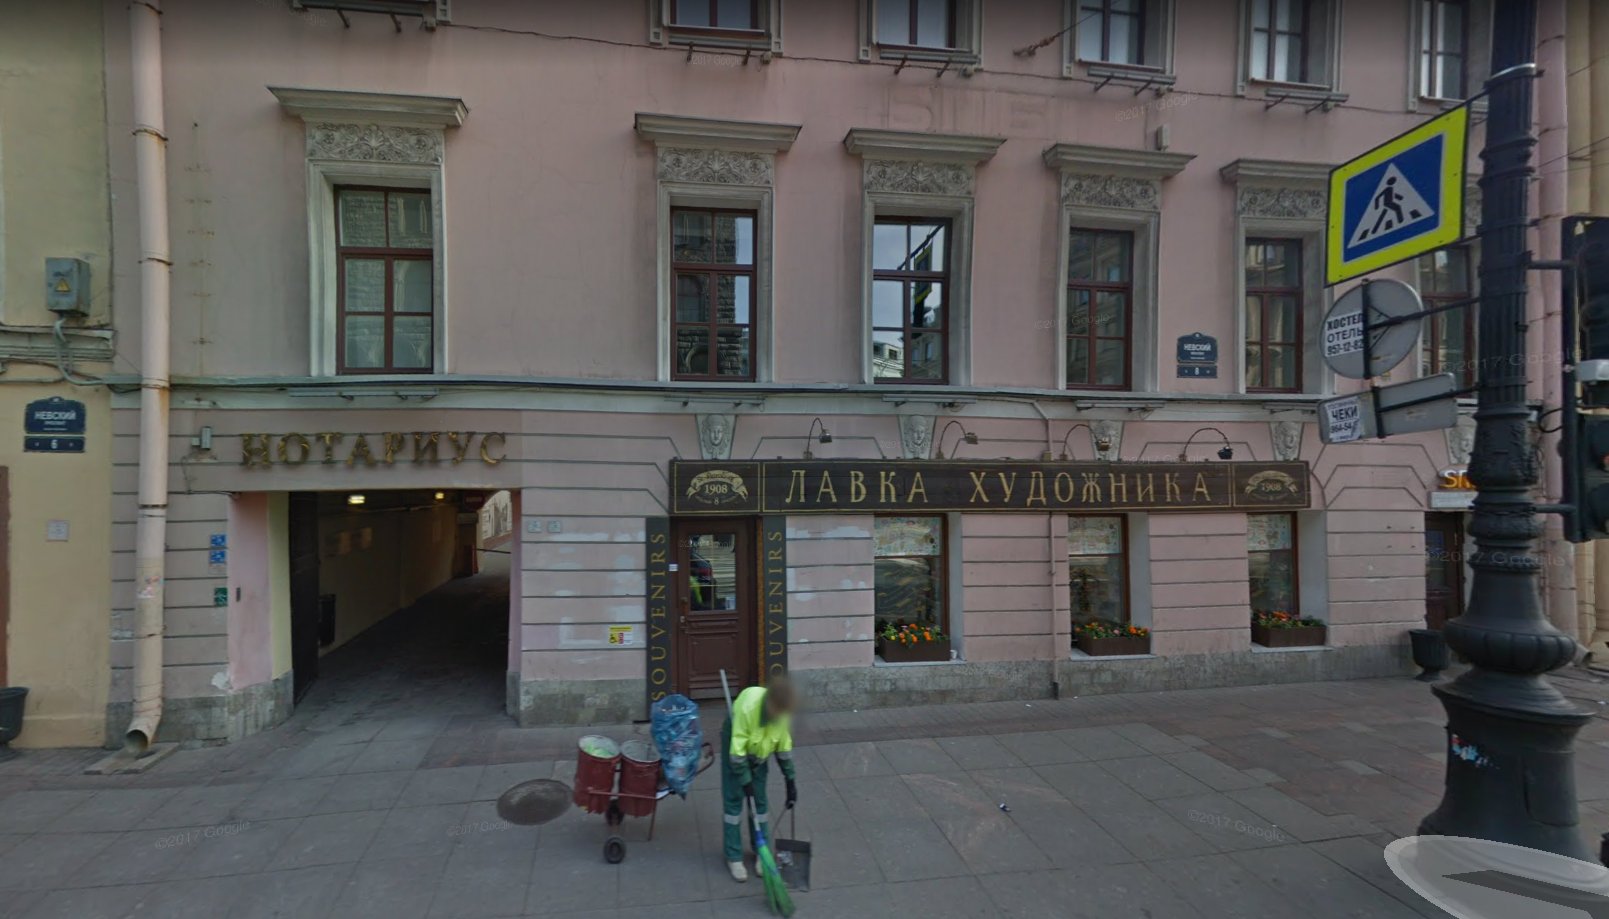arch: (220, 480, 532, 758)
door: (675, 521, 755, 693)
signboard: (669, 454, 1315, 513), (228, 421, 515, 479)
window: (337, 187, 428, 374), (674, 205, 763, 387), (866, 216, 964, 381), (1063, 228, 1133, 385), (1240, 237, 1307, 392), (877, 511, 946, 658), (1060, 517, 1129, 635), (1243, 519, 1304, 622)
